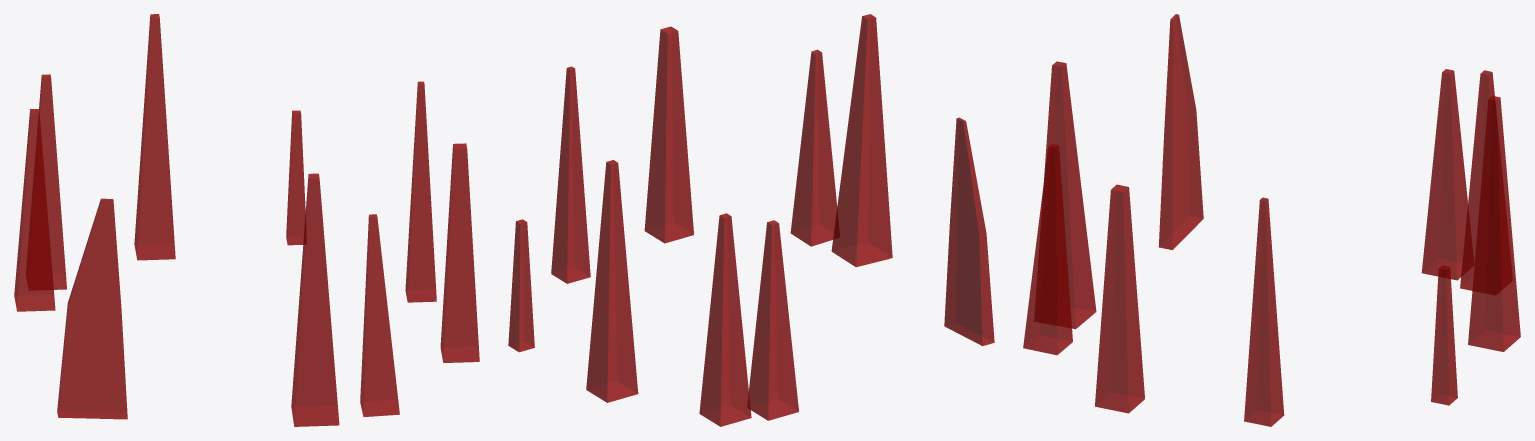
Rendered from SM_Env_Swamp_Tree_Root_Preset_01_Collision.fbx.
3 renders of one model, left to right at view 1: azimuth 30°, elevation 25°; view 2: azimuth 150°, elevation 25°; view 3: azimuth 270°, elevation 25°, orthographic. The views are drawn at different scales.
Visible parts, largest first — view 1: SM_Env_Swamp_Tree_Root_Preset_01_Collision; view 2: SM_Env_Swamp_Tree_Root_Preset_01_Collision; view 3: SM_Env_Swamp_Tree_Root_Preset_01_Collision.
Part boxes in pixels (x1,y1,x2,y2): SM_Env_Swamp_Tree_Root_Preset_01_Collision: (14,14,479,426); SM_Env_Swamp_Tree_Root_Preset_01_Collision: (508,14,994,426); SM_Env_Swamp_Tree_Root_Preset_01_Collision: (1023,14,1520,426).
Bounding box in the file's own units: 677 × 382 × 682.
